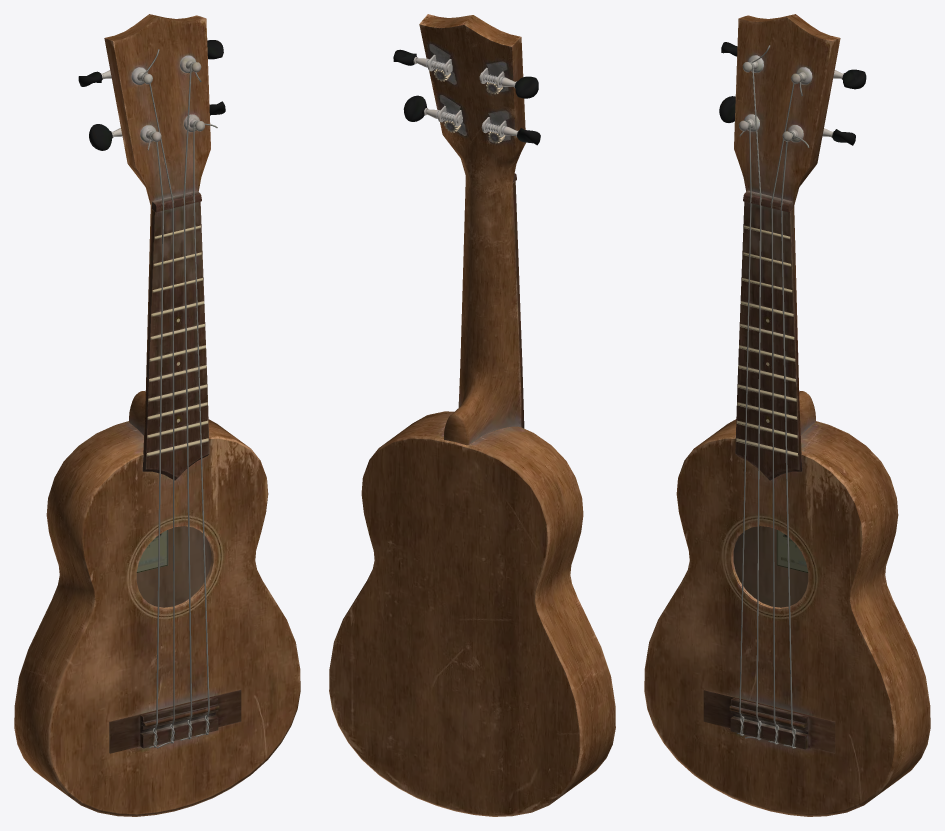
Rendered from Ukulele_01.glb.
3 renders of one model, left to right at view 1: azimuth 30°, elevation 25°; view 2: azimuth 150°, elevation 25°; view 3: azimuth 330°, elevation 25°, orthographic.
Parts seen in each view (by area): view 1: Ukulele_01; view 2: Ukulele_01; view 3: Ukulele_01.
Part boxes in pixels (x1=…): Ukulele_01: x1=14, y1=14, x2=300, y2=816; Ukulele_01: x1=329, y1=14, x2=615, y2=816; Ukulele_01: x1=644, y1=14, x2=930, y2=816.
Size of the model in its own units: 0.1779 by 0.527 by 0.0508.
1 material, 1 textured.
